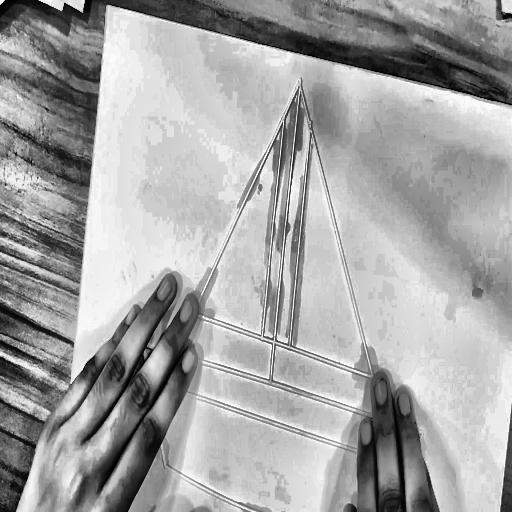boat: (120, 35, 471, 512)
top_left: (103, 0, 114, 19)
